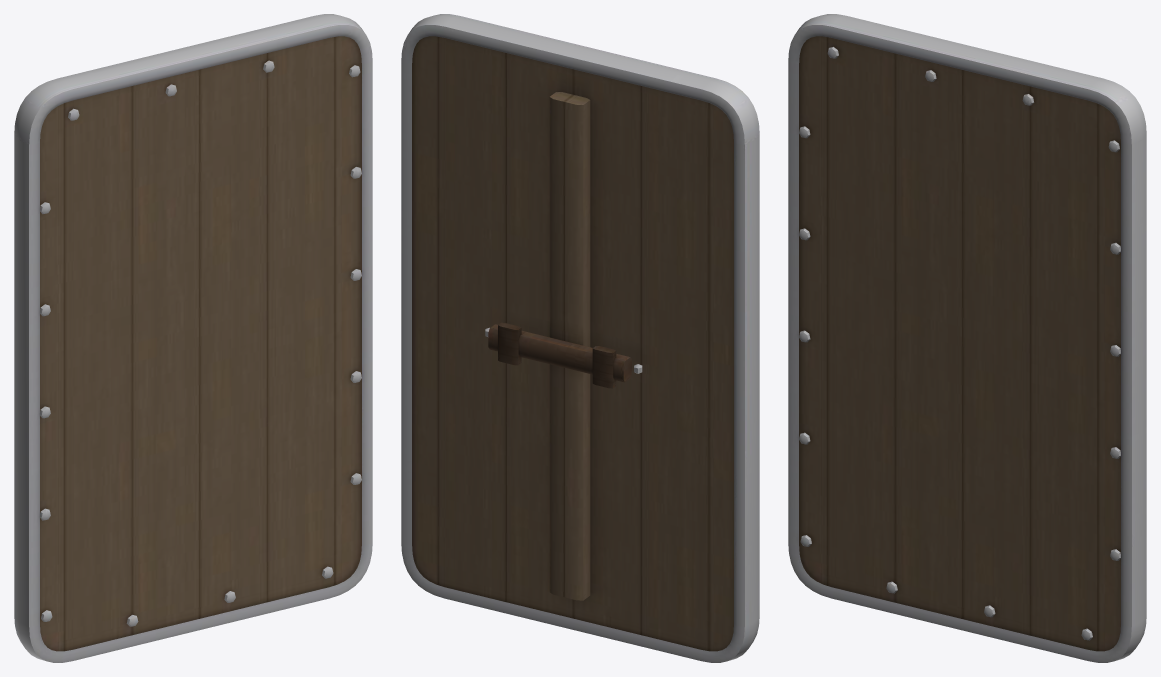
Rendered from skold_pavis.glb.
The picture shows the model from 3 angles, left to right: view 1: azimuth 30°, elevation 25°; view 2: azimuth 150°, elevation 25°; view 3: azimuth 330°, elevation 25°; orthographic projection.
Visible parts, largest first — view 1: SM_V_skold_pavis, SM_V_skold_pavis_Faste; view 2: SM_V_skold_pavis, SM_V_skold_pavis_Faste; view 3: SM_V_skold_pavis, SM_V_skold_pavis_Faste.
Part boxes in pixels (left/top/right/bottom): SM_V_skold_pavis: left=40, top=36, right=361, bottom=651; SM_V_skold_pavis_Faste: left=14, top=14, right=372, bottom=662; SM_V_skold_pavis: left=412, top=36, right=733, bottom=651; SM_V_skold_pavis_Faste: left=401, top=14, right=759, bottom=662; SM_V_skold_pavis: left=799, top=36, right=1120, bottom=651; SM_V_skold_pavis_Faste: left=788, top=14, right=1146, bottom=662.
Size of the model in its own units: 0.516 by 0.816 by 0.09.
Materials: 1 (1 with a texture image).
